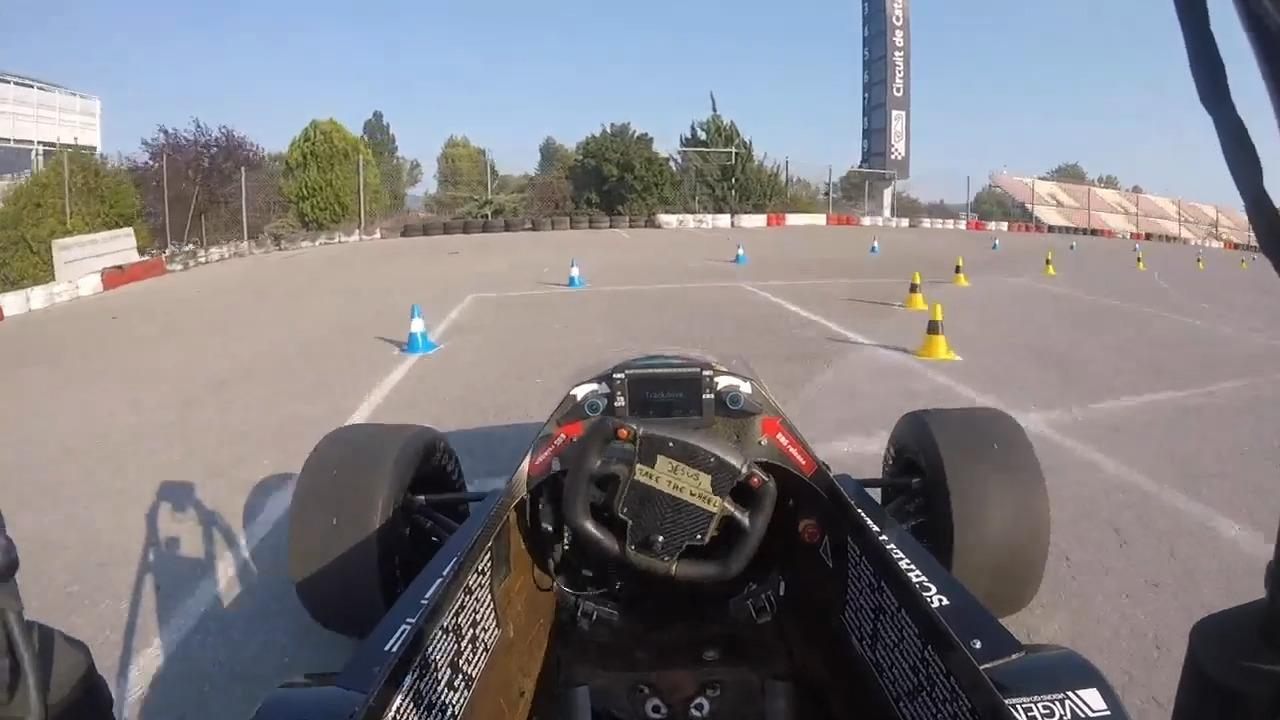blue_cone: (397, 301, 441, 360), (563, 256, 588, 289), (732, 239, 751, 270), (866, 231, 882, 256), (989, 232, 1001, 252), (1067, 239, 1077, 253)
yellow_cone: (915, 304, 963, 362), (901, 270, 932, 314), (950, 253, 970, 288), (1038, 252, 1059, 280), (1133, 247, 1149, 272), (1195, 253, 1207, 271), (1238, 255, 1247, 270)
